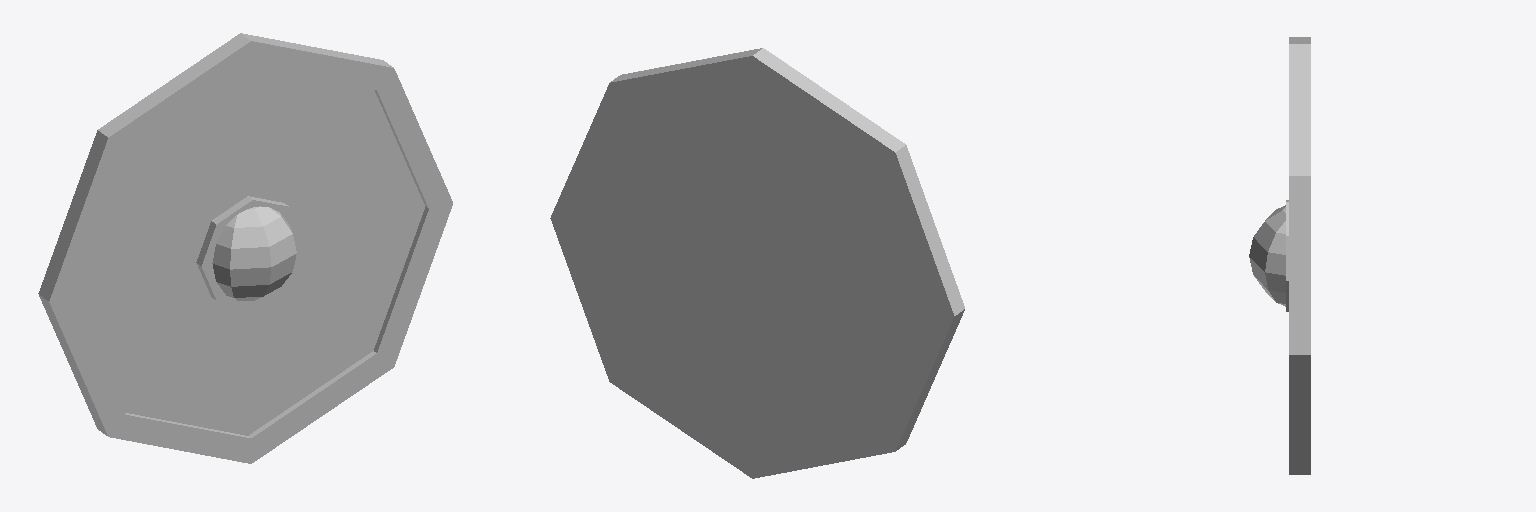
The model's file is Shield.obj.
3 renders of one model, left to right at view 1: azimuth 30°, elevation 25°; view 2: azimuth 150°, elevation 25°; view 3: azimuth 270°, elevation 25°, orthographic.
Visible parts, largest first — view 1: pCylinder1 group1, group1 pSphere1, group1 pCylinder2; view 2: pCylinder1 group1; view 3: pCylinder1 group1, group1 pSphere1.
Part boxes in pixels (x1,y1,x2,y2): pCylinder1 group1: (38,33,452,463); group1 pSphere1: (212,206,296,300); group1 pCylinder2: (196,196,304,307); pCylinder1 group1: (550,48,964,478); pCylinder1 group1: (1289,37,1310,474); group1 pSphere1: (1249,205,1285,306).
Size of the model in its own units: 1.11 by 1.11 by 0.1472.